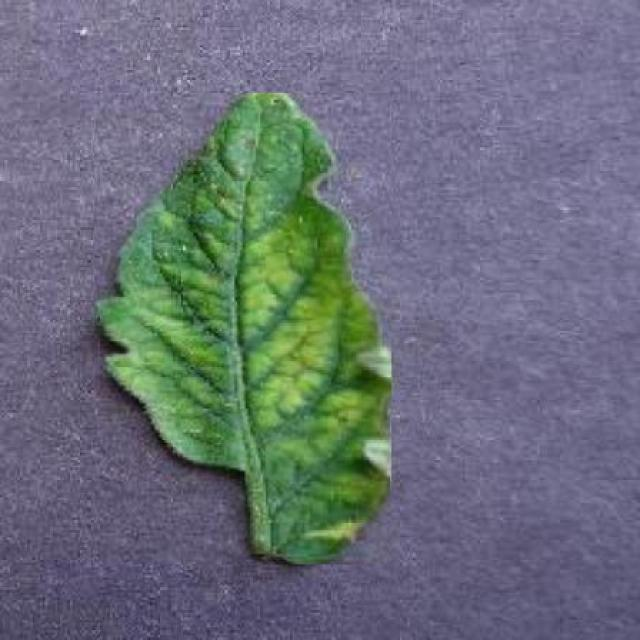Mosaic Virus: (95, 94, 392, 565)
